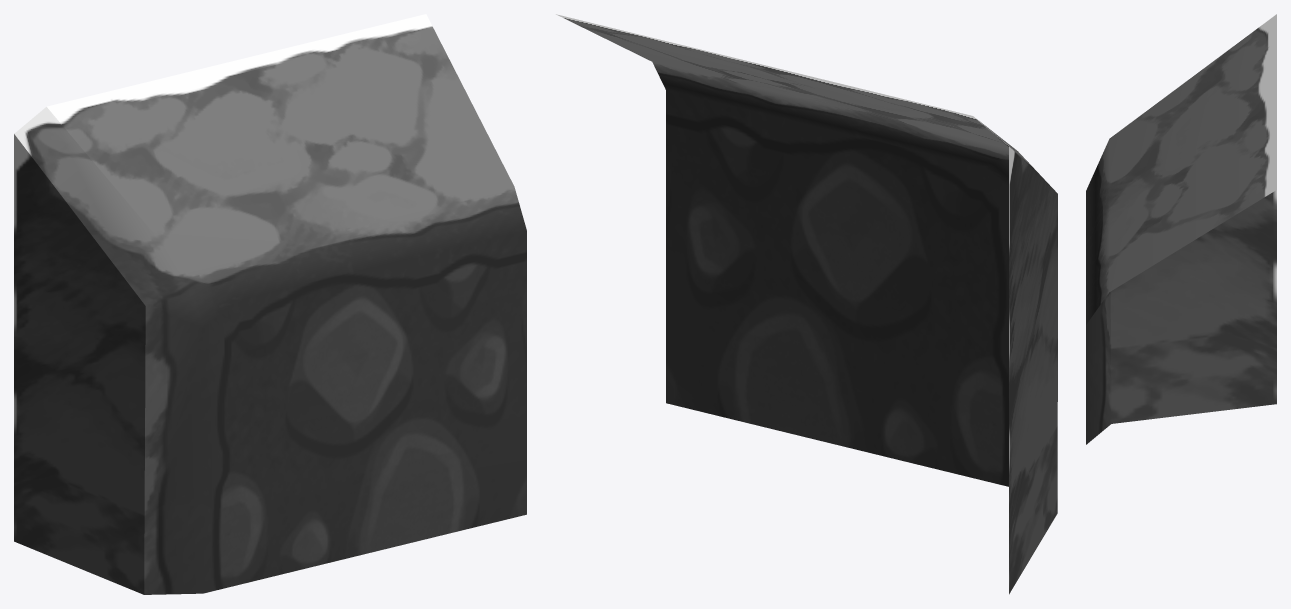
The model's file is tileSegment00.fbx.
3 renders of one model, left to right at view 1: azimuth 30°, elevation 25°; view 2: azimuth 150°, elevation 25°; view 3: azimuth 270°, elevation 25°, orthographic. The views are drawn at different scales.
Visible parts, largest first — view 1: polySurface5; view 2: polySurface5; view 3: polySurface5.
Part boxes in pixels (box(x1,y1,x2,y2)): polySurface5: box(14, 14, 526, 594); polySurface5: box(556, 14, 1057, 594); polySurface5: box(1086, 14, 1276, 444).
Size of the model in its own units: 0.9209 by 0.9119 by 0.3893.
1 material, 1 textured.
